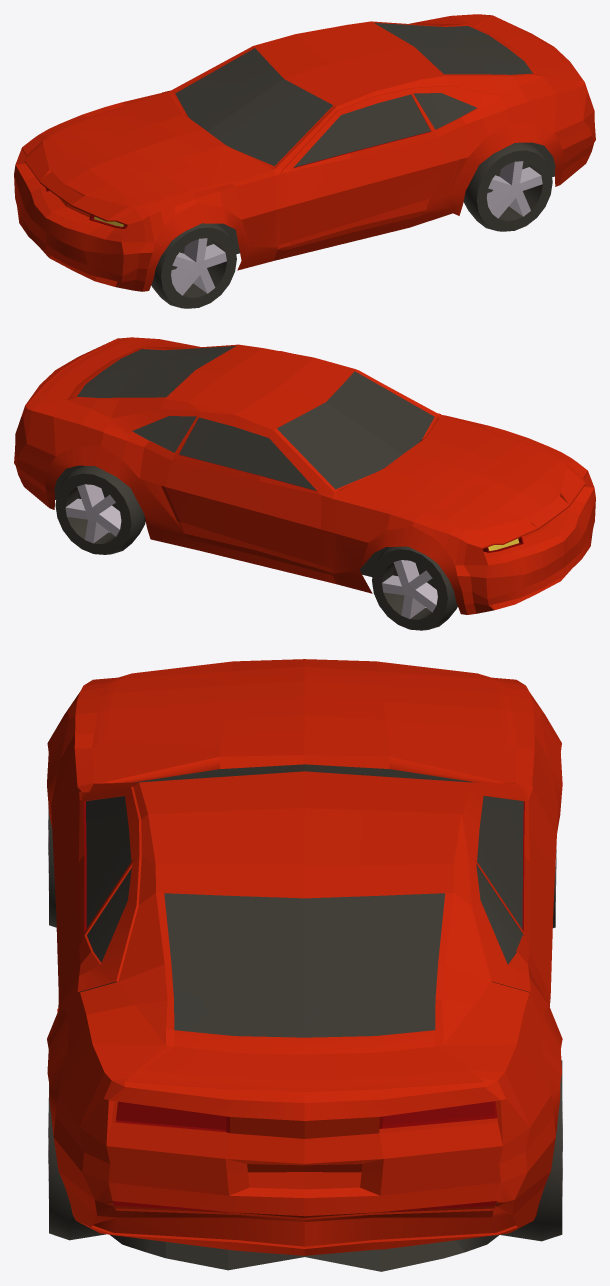
File: Car1T.fbx
The picture shows the model from 3 angles, top to bottom: view 1: azimuth 30°, elevation 25°; view 2: azimuth 150°, elevation 25°; view 3: azimuth 270°, elevation 25°; orthographic projection. The views are drawn at different scales.
Visible parts, largest first — view 1: Car1; view 2: Car1; view 3: Car1.
Boxes of the visible parts, x1,y1,x2,y2 form: Car1: [14, 14, 595, 308]; Car1: [14, 337, 595, 630]; Car1: [47, 659, 562, 1271].
Bounding box in the file's own units: 1115 × 315 × 481.
